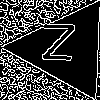Z: (40, 24, 77, 70)
